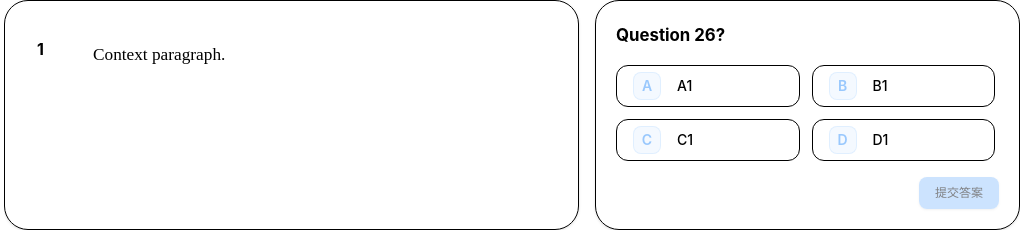
Test case: ChoiceQuestionFocusTemplate › submits the selected answer and marks result states
The width and height of the screenshot is (1024, 247).
Click the button named "AA1" at (708, 86), box 616,65 -> 800,107
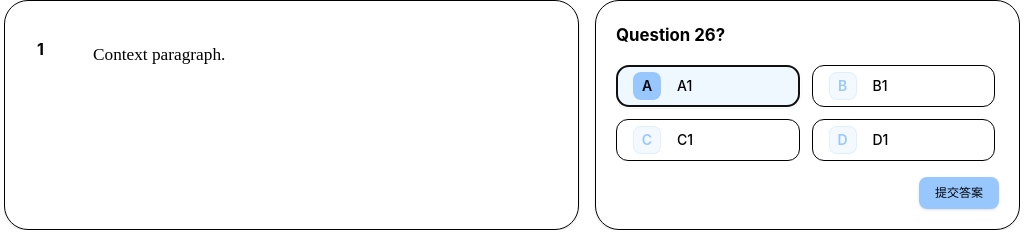
Click the button "提交答案" at (959, 193), box 919,177 -> 999,209
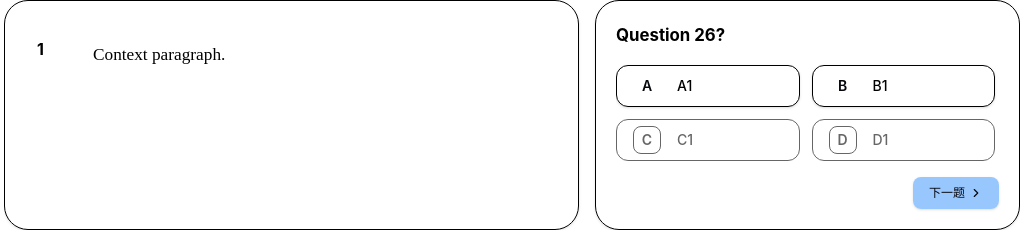
Expected: the button named "AA1" is disabled, 616,65 -> 800,107
Expected: the button named "BB1" is disabled, 812,65 -> 995,107
Expected: the button "下一题" is shown, 913,177 -> 999,209
